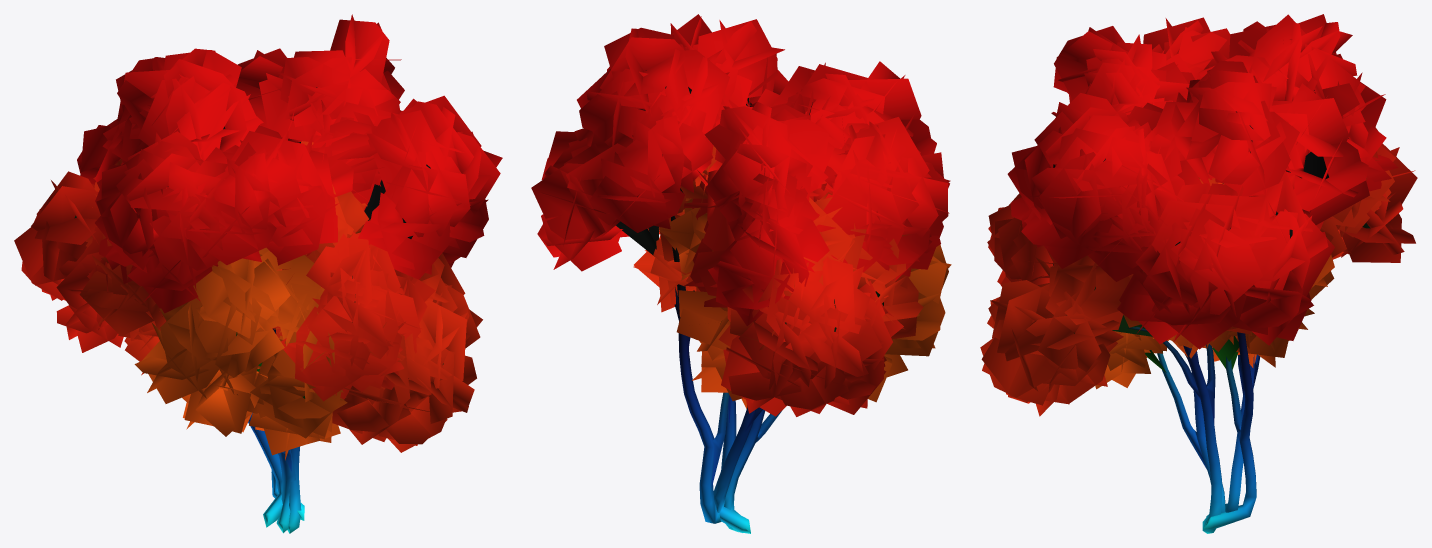
Rendered from Osmanthus4.fbx.
3 renders of one model, left to right at view 1: azimuth 30°, elevation 25°; view 2: azimuth 150°, elevation 25°; view 3: azimuth 270°, elevation 25°, orthographic. The views are drawn at different scales.
Visible parts, largest first — view 1: Osmanthus4_LOD0; view 2: Osmanthus4_LOD0; view 3: Osmanthus4_LOD0.
Part boxes in pixels (<box>): Osmanthus4_LOD0: <box>14,14,502,533</box>; Osmanthus4_LOD0: <box>531,14,951,533</box>; Osmanthus4_LOD0: <box>980,14,1417,533</box>.
Size of what is drawn, in the model's own units: 508 by 616 by 485.
